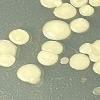white: (41, 19, 72, 41), (15, 63, 43, 87), (52, 3, 77, 20), (68, 54, 90, 72), (39, 40, 63, 56), (8, 27, 30, 44), (36, 50, 58, 66), (70, 18, 90, 34), (1, 39, 16, 57), (0, 54, 17, 69), (78, 3, 94, 17), (89, 43, 100, 62), (40, 0, 62, 8), (68, 0, 88, 7), (80, 43, 90, 54), (92, 62, 100, 75), (88, 0, 99, 8), (92, 86, 100, 97), (60, 55, 68, 65)
